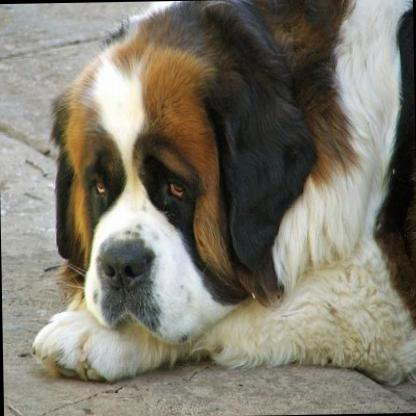Saint_Bernard: (19, 0, 416, 394)
